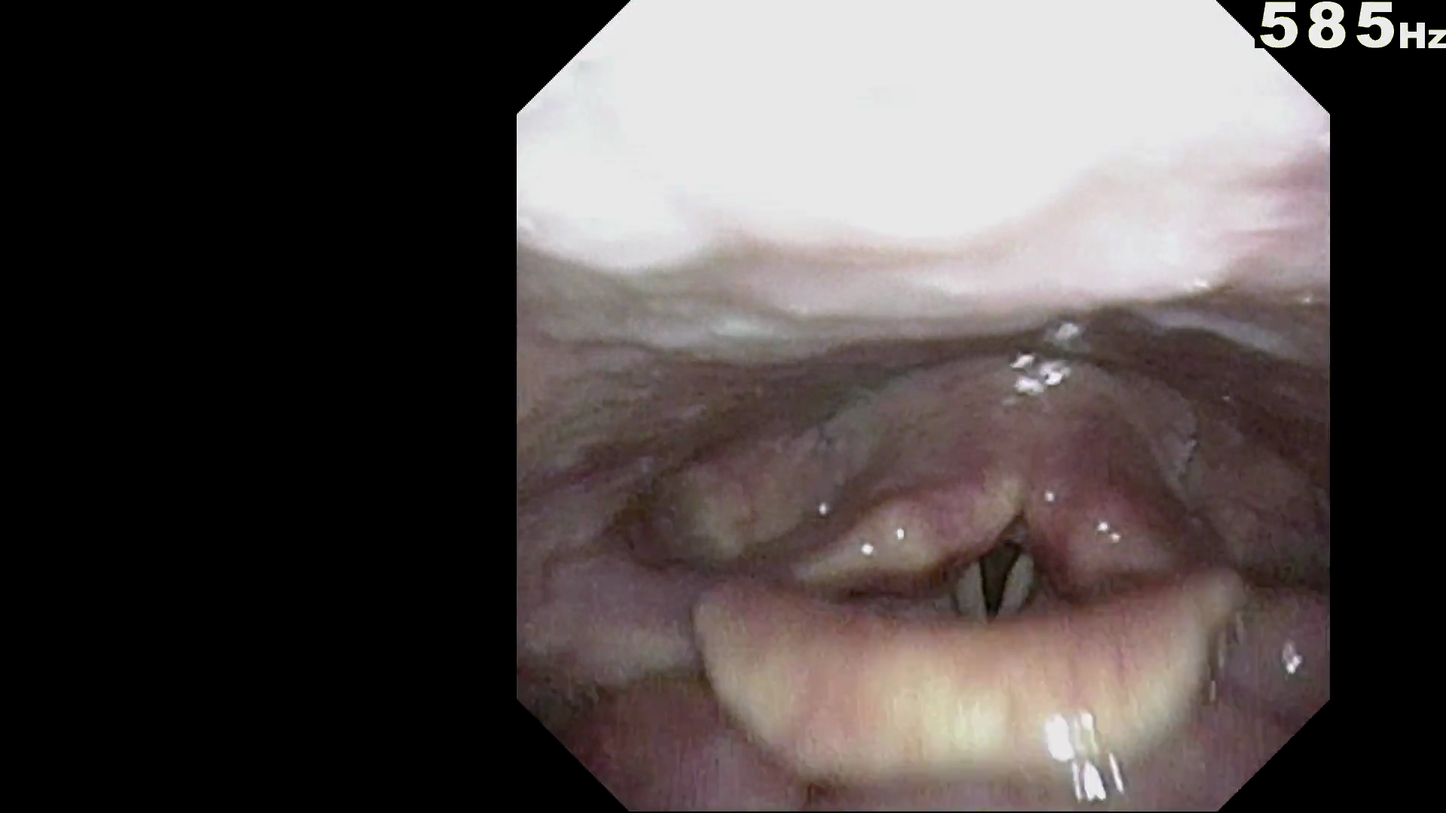epiglottis: (683, 603, 1225, 742)
trachea: (926, 533, 1054, 627)
